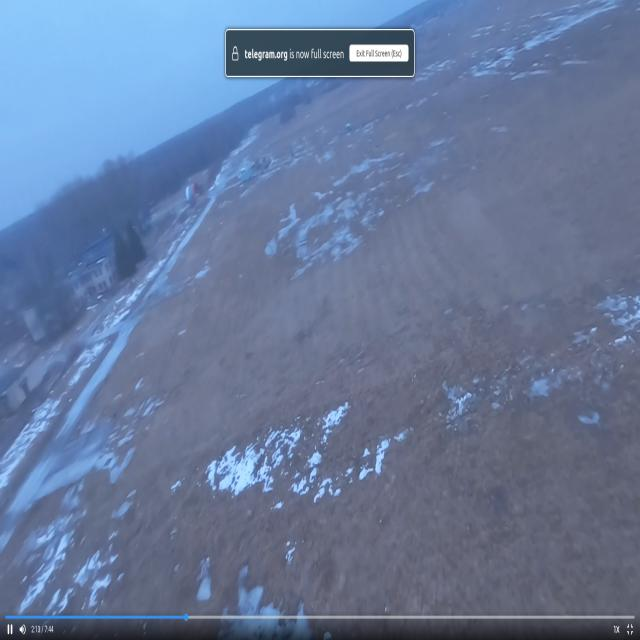planedrone: (339, 119, 367, 134)
